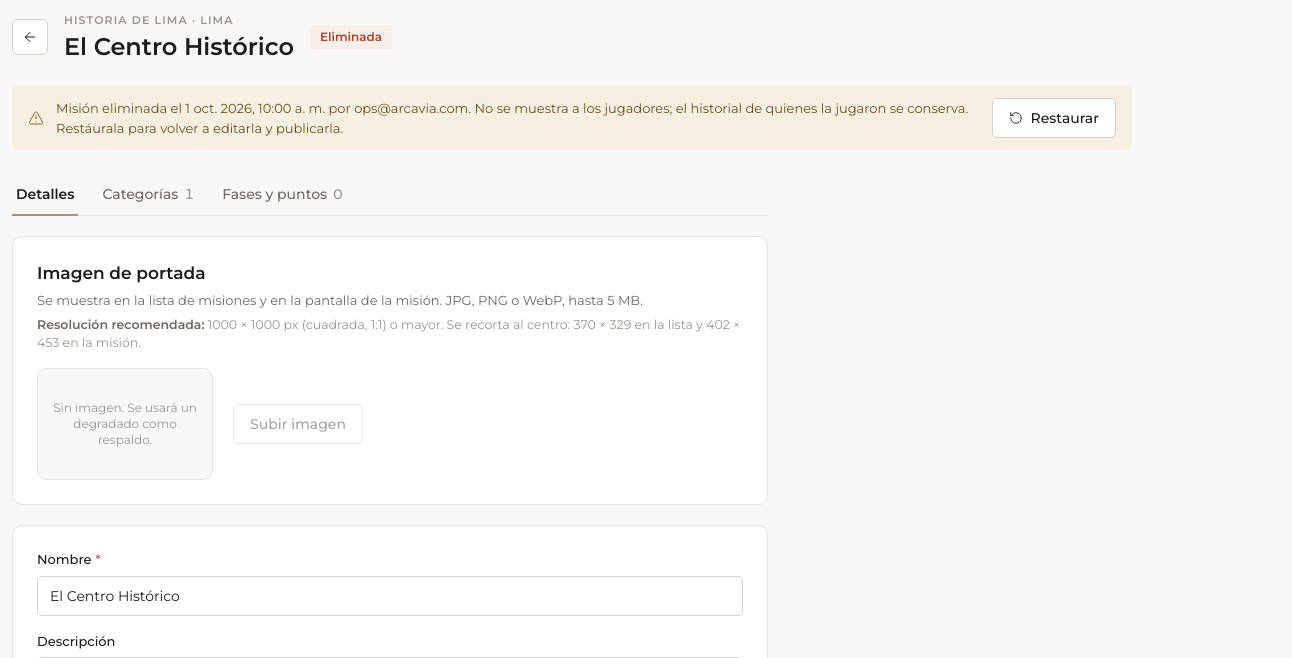
MissionEditor — remove mission › a removed mission is review-only, with a banner and restore
Expected: the message shows "por ops@arcavia.com", [56,100,968,136]
Expected: the text "Eliminada" is shown, [310,25,392,49]
Click the button "Restaurar". click: (1054, 118)
box: [992,98,1116,138]
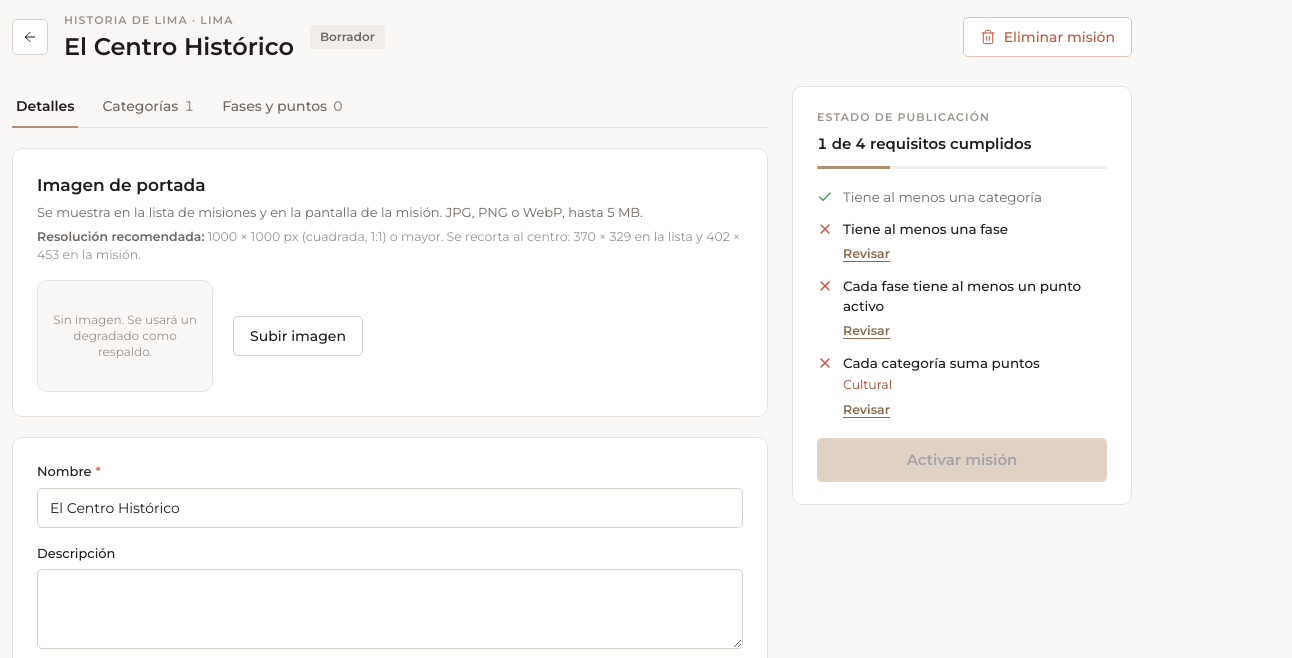
Expected: the button "Eliminar misión" is shown, [963,17,1132,57]
